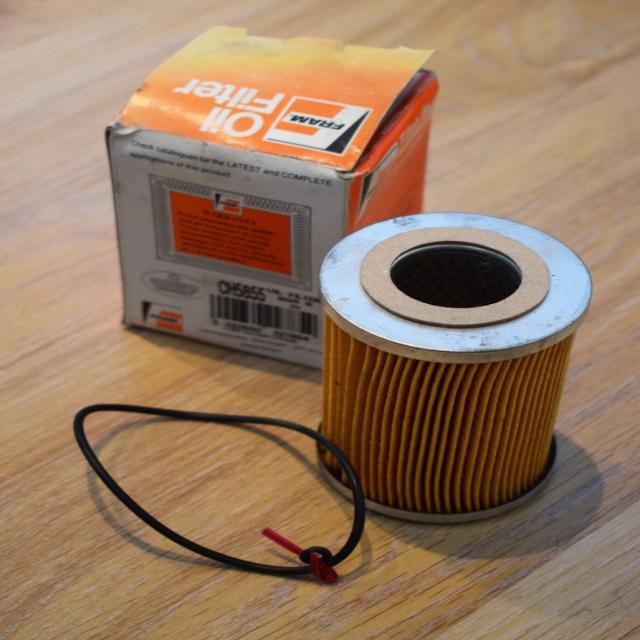oil_filter: (313, 209, 590, 532)
